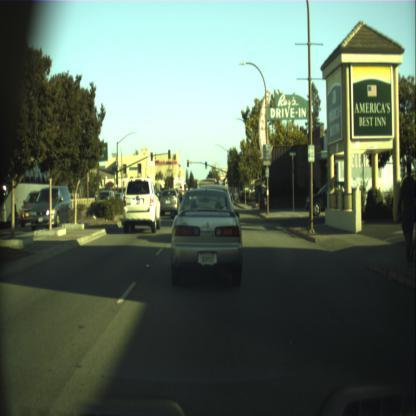Green: (205, 161, 207, 168), (228, 180, 230, 184)
Red: (186, 159, 188, 167)
